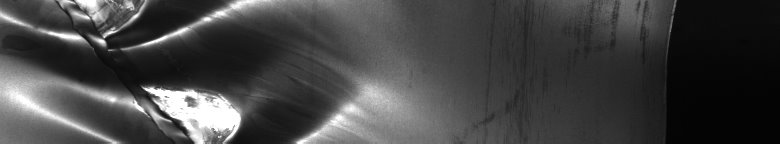ke: (4, 4, 336, 136)
